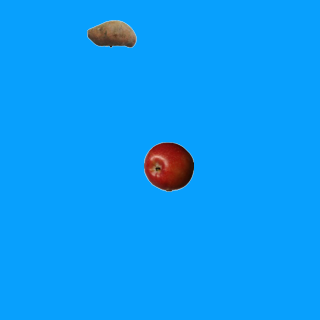Apple Braeburn: (143, 141, 193, 191)
Potato Sweet: (86, 8, 136, 58)
